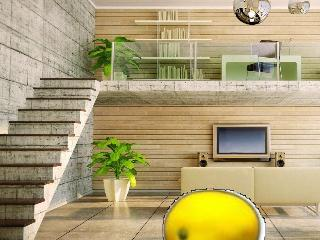lemon: (164, 192, 259, 240)
